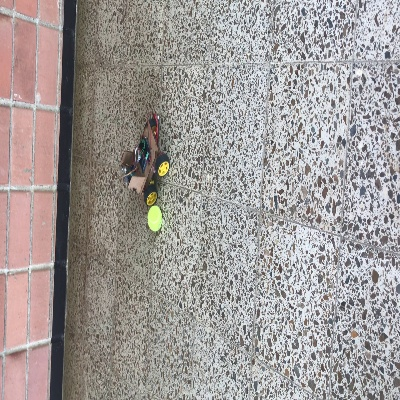Ball: (147, 206, 162, 231)
Robot: (121, 118, 170, 201)
